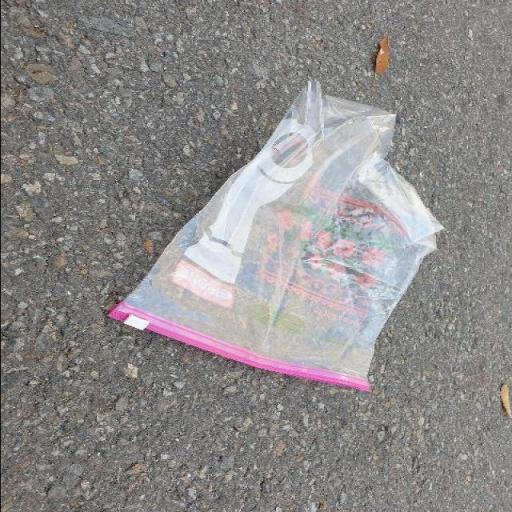plastic-bag: (96, 76, 449, 394)
